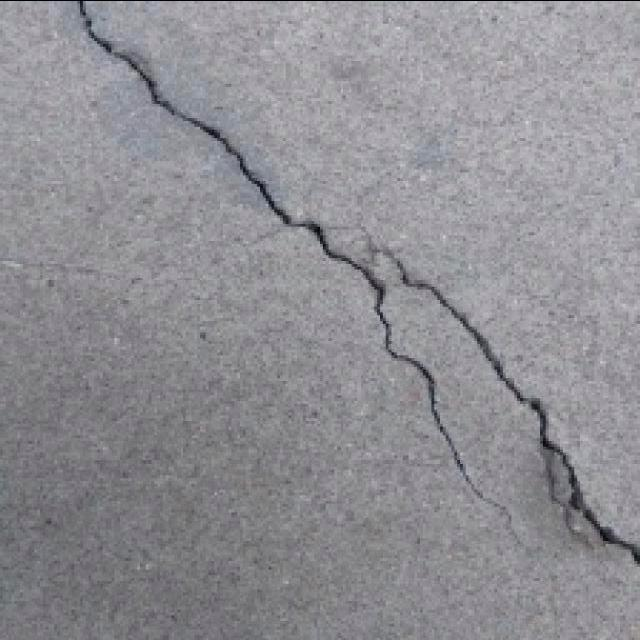SurfaceCrack: (46, 0, 640, 576)
